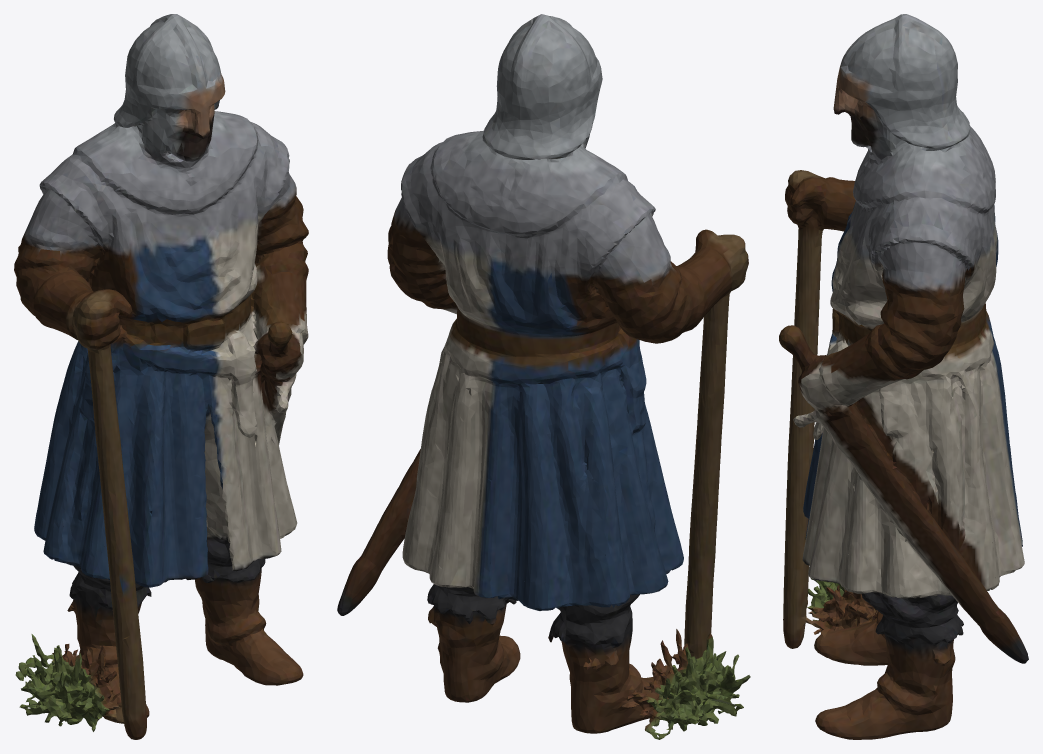
The model's file is soldadoa.glb.
3 views of the same model, side by side, from view 1: azimuth 30°, elevation 25°; view 2: azimuth 150°, elevation 25°; view 3: azimuth 270°, elevation 25° (orthographic). The views are drawn at different scales.
Visible parts, largest first — view 1: soldado; view 2: soldado; view 3: soldado.
Part boxes in pixels (bbox=[...]): soldado: bbox=[14, 14, 308, 739]; soldado: bbox=[337, 14, 750, 739]; soldado: bbox=[779, 14, 1028, 739].
Bounding box in the file's own units: 0.97 × 1.96 × 0.6537.
1 material, 1 textured.
